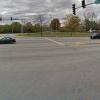Traffic light: (67, 1, 99, 20)
